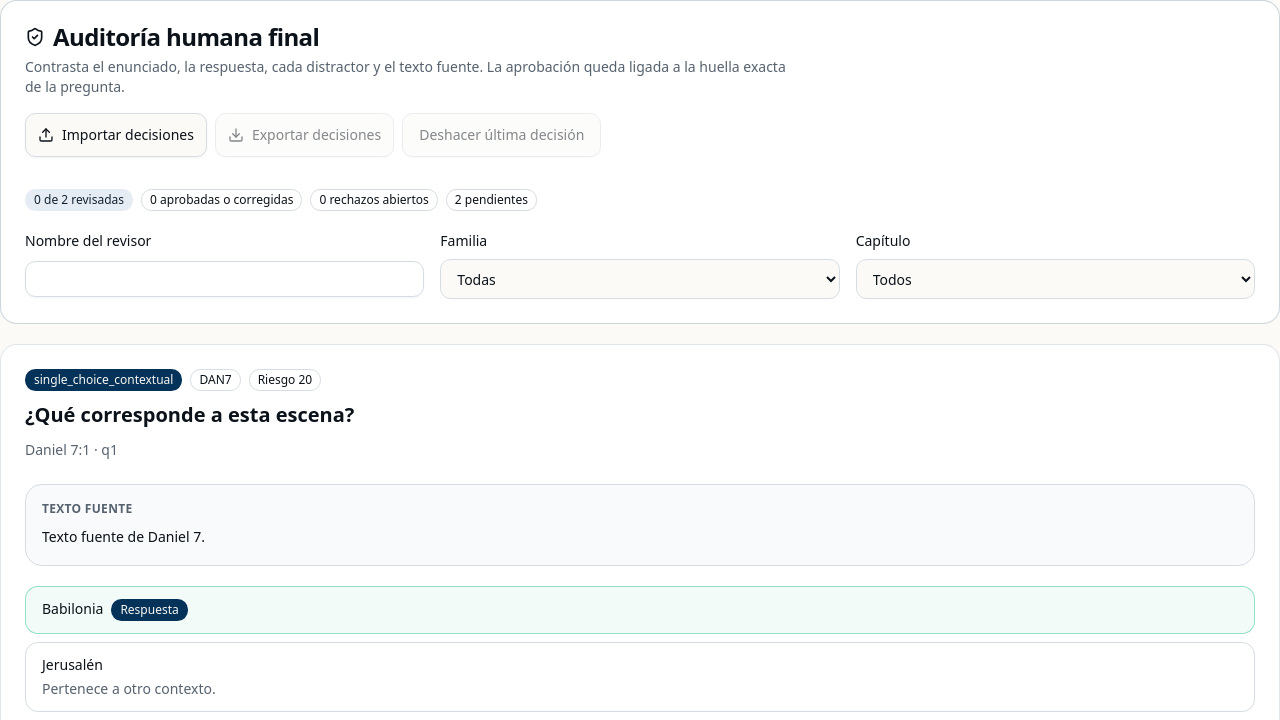
Test: mantiene visible un rechazo como defecto abierto
Expected: the text "¿Qué corresponde a esta escena?" is shown, [25, 401, 354, 428]
In the field labelled "Nombre del revisor": (225, 279) [25, 261, 424, 297], type "María"
(page scrolled)
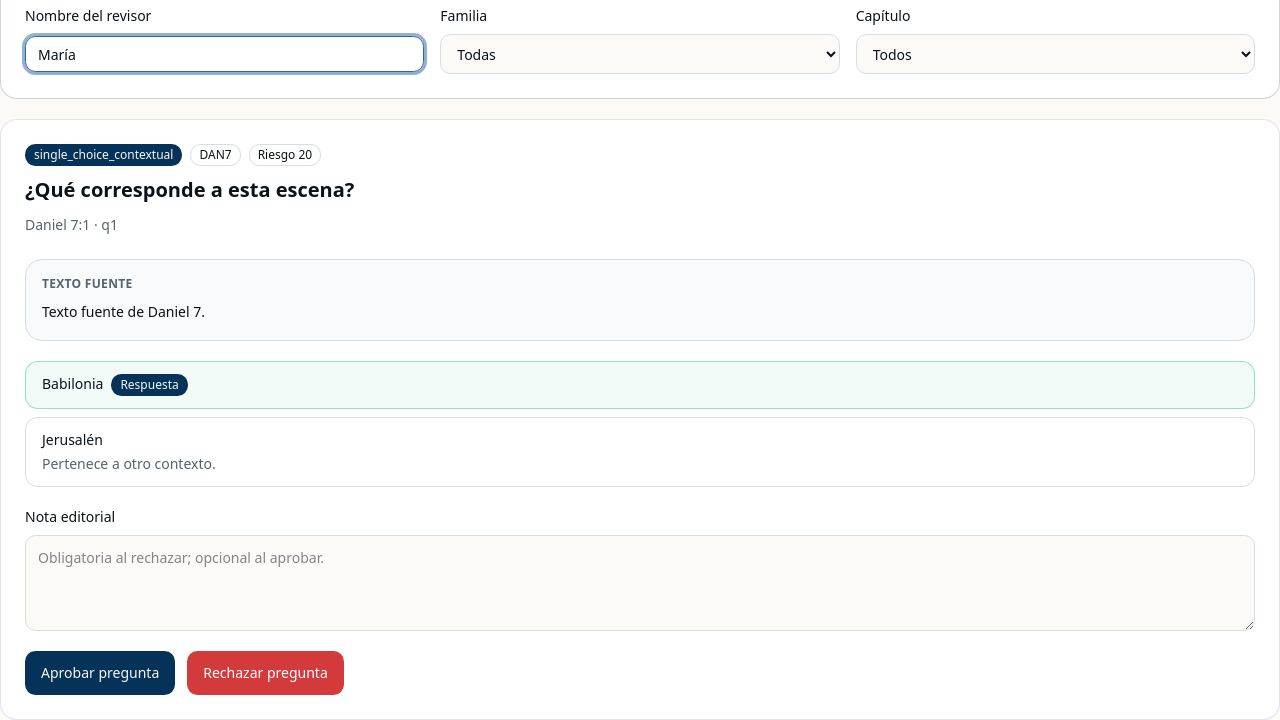
In the text box labelled "Nota editorial": (640, 582) [25, 534, 1255, 630], type "El distractor no es plausible."
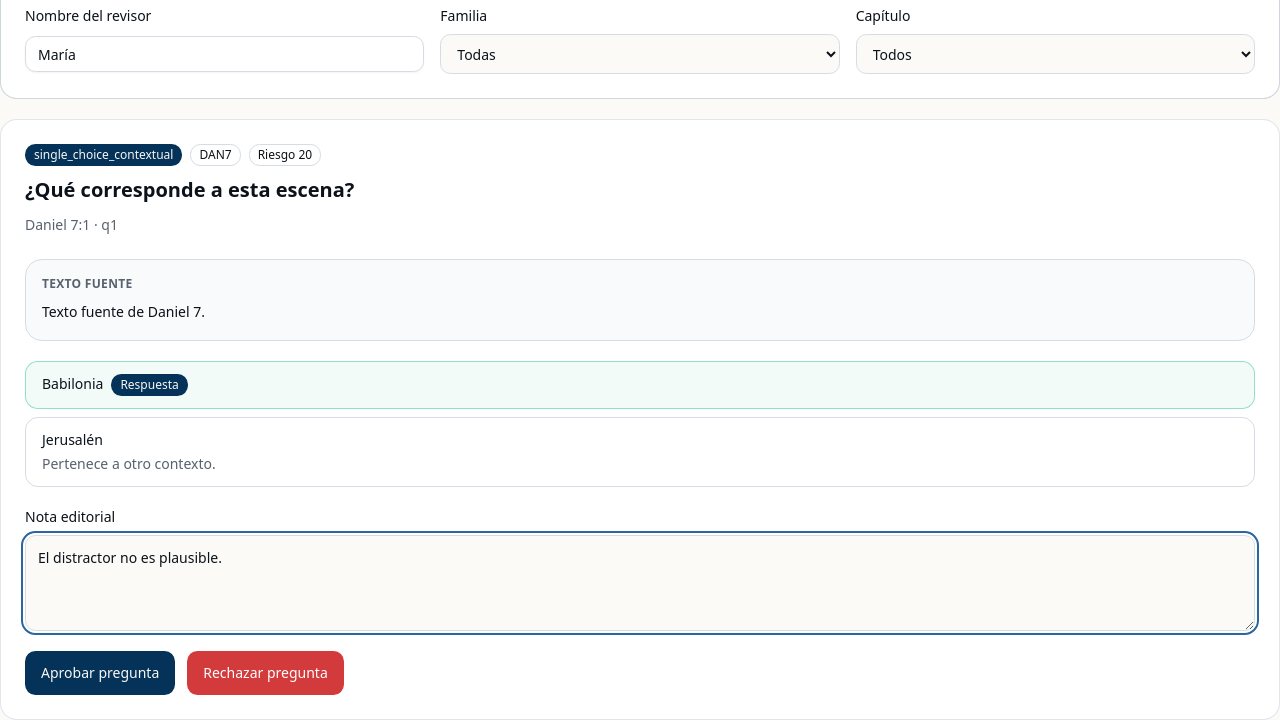
Click the button "Rechazar pregunta": click(266, 672) [187, 650, 344, 694]
(page scrolled)
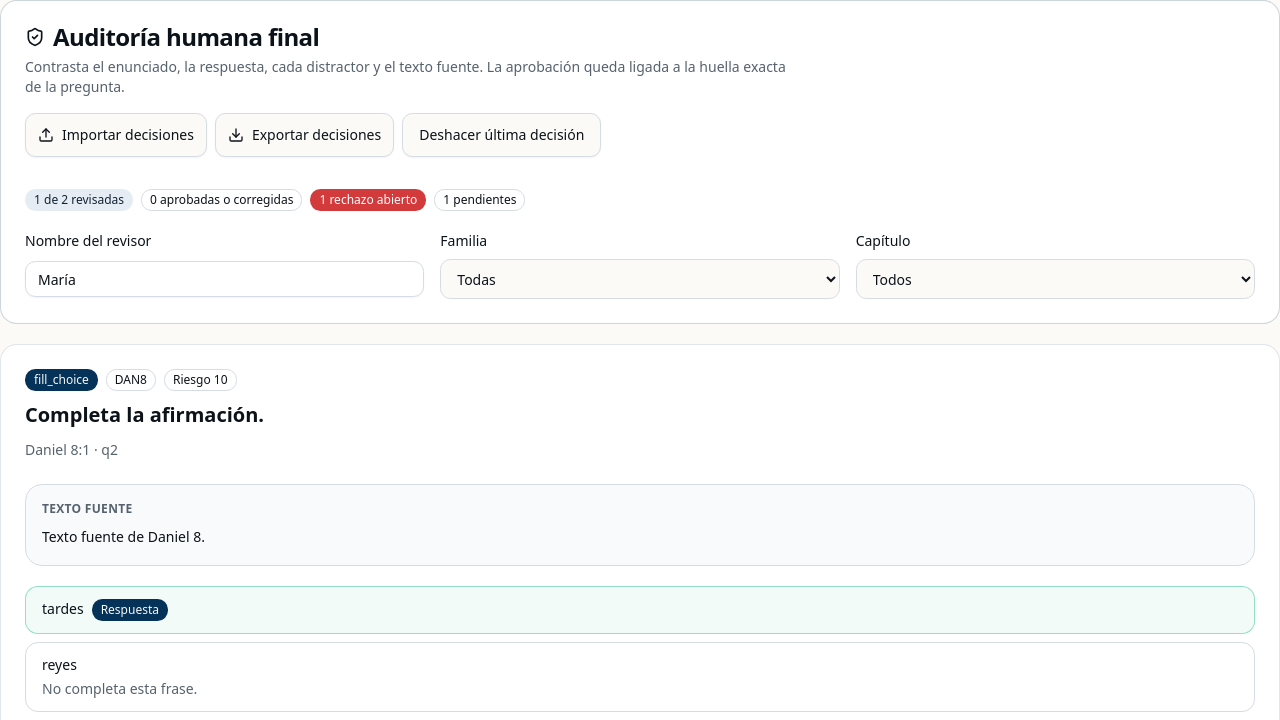
Expected: the text "0 aprobadas o corregidas" is shown, [141, 189, 302, 211]
Expected: the text "1 rechazo abierto" is shown, [310, 189, 426, 211]
